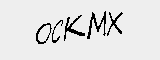Е: (123, 20, 144, 40)
Л: (18, 19, 38, 38)
М: (38, 18, 64, 39)
Р: (108, 18, 122, 43)
Ш: (79, 20, 108, 39)
Ғ: (64, 17, 78, 39)
